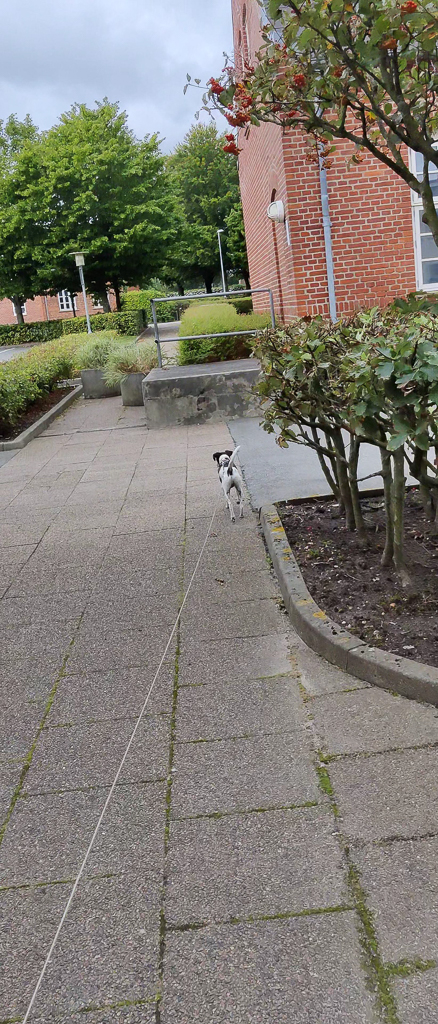Dog: (208, 441, 257, 527)
